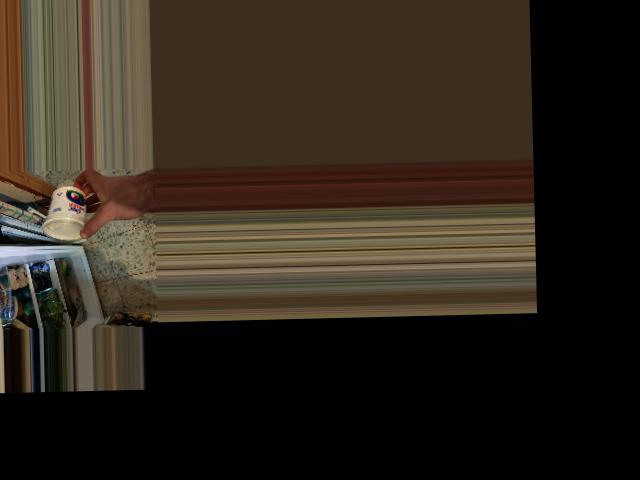cotage: (40, 183, 96, 243)
